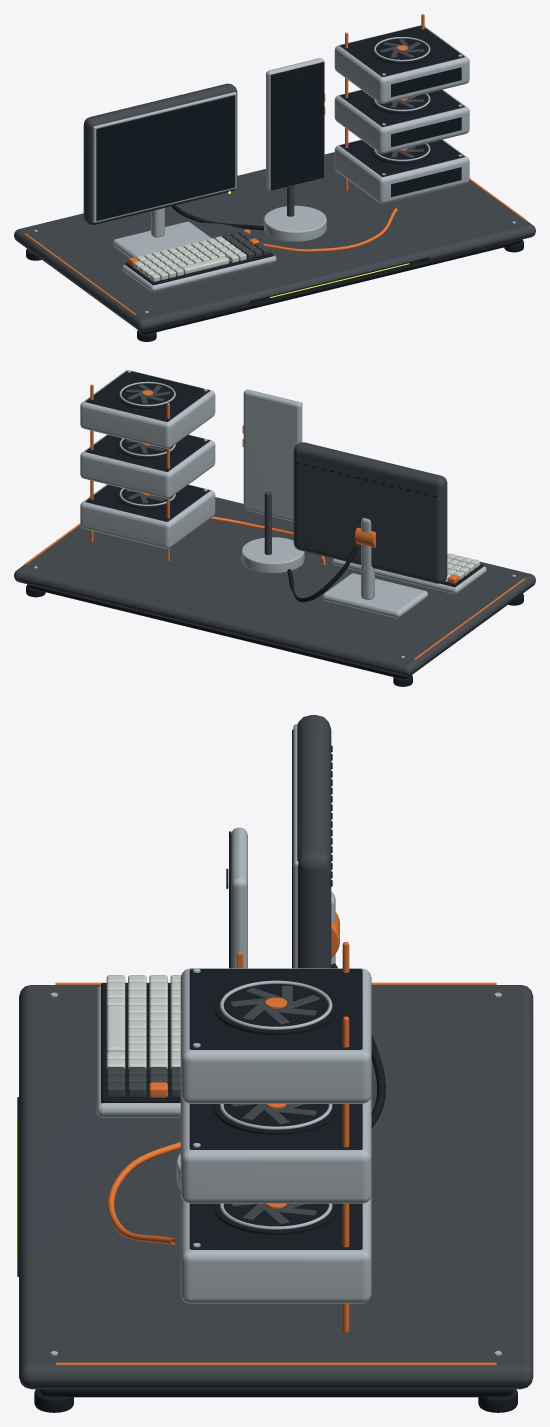
File: stack.glb
3 views of the same model, one above another, from view 1: azimuth 30°, elevation 25°; view 2: azimuth 150°, elevation 25°; view 3: azimuth 270°, elevation 25° (orthographic). The views are drawn at different scales.
Parts seen in each view (by area): view 1: Static / Graphite ceramic.003, Static / Satin titanium.003, Static / Recessed black rubber.003, SCREEN_web, SCREEN_mobile, Static / Warm porcelain keys.001, Static / Burnt orange enamel.003, LABEL_backend_0, LABEL_backend_1, LABEL_backend_2; view 2: Static / Graphite ceramic.003, Static / Satin titanium.003, Static / Recessed black rubber.003, Static / Burnt orange enamel.003, Static / Warm porcelain keys.001; view 3: Static / Graphite ceramic.003, Static / Satin titanium.003, Static / Recessed black rubber.003, Static / Burnt orange enamel.003, Static / Warm porcelain keys.001.
Part boxes in pixels (<box>): Static / Graphite ceramic.003: <box>14,39,535,331</box>; Static / Satin titanium.003: <box>34,25,515,313</box>; Static / Recessed black rubber.003: <box>26,25,523,341</box>; SCREEN_web: <box>97,97,234,219</box>; SCREEN_mobile: <box>274,68,321,184</box>; Static / Warm porcelain keys.001: <box>133,236,246,281</box>; Static / Burnt orange enamel.003: <box>24,14,525,314</box>; LABEL_backend_0: <box>391,167,461,197</box>; LABEL_backend_1: <box>391,117,461,147</box>; LABEL_backend_2: <box>391,67,461,97</box>; Static / Graphite ceramic.003: <box>14,384,535,676</box>; Static / Satin titanium.003: <box>34,370,515,658</box>; Static / Recessed black rubber.003: <box>26,370,523,686</box>; Static / Burnt orange enamel.003: <box>24,384,525,659</box>; Static / Warm porcelain keys.001: <box>444,553,480,581</box>; Static / Graphite ceramic.003: <box>19,715,533,1389</box>; Static / Satin titanium.003: <box>50,724,501,1355</box>; Static / Recessed black rubber.003: <box>17,729,517,1412</box>; Static / Burnt orange enamel.003: <box>55,912,496,1365</box>; Static / Warm porcelain keys.001: <box>106,975,181,1068</box>.
Bounding box in the file's own units: 12.5 × 5.77 × 7.03.
